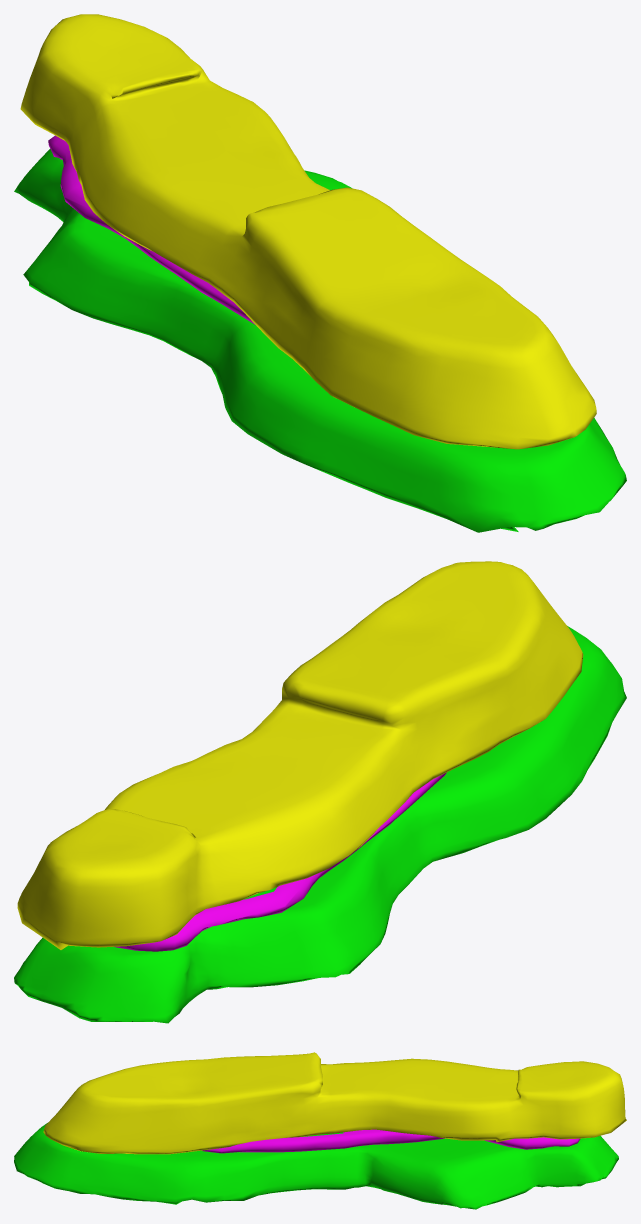
Rendered from rock9.fbx.
3 renders of one model, top to bottom at view 1: azimuth 30°, elevation 25°; view 2: azimuth 150°, elevation 25°; view 3: azimuth 270°, elevation 25°, orthographic. The views are drawn at different scales.
Visible parts, largest first — view 1: rocher9:rock9; view 2: rocher9:rock9; view 3: rocher9:rock9.
Boxes of the visible parts, left/top/right/bottom form: rocher9:rock9: left=14, top=14, right=626, bottom=532; rocher9:rock9: left=14, top=561, right=626, bottom=1023; rocher9:rock9: left=14, top=1052, right=626, bottom=1209.
Bounding box in the file's own units: 1444 × 661 × 3930.
